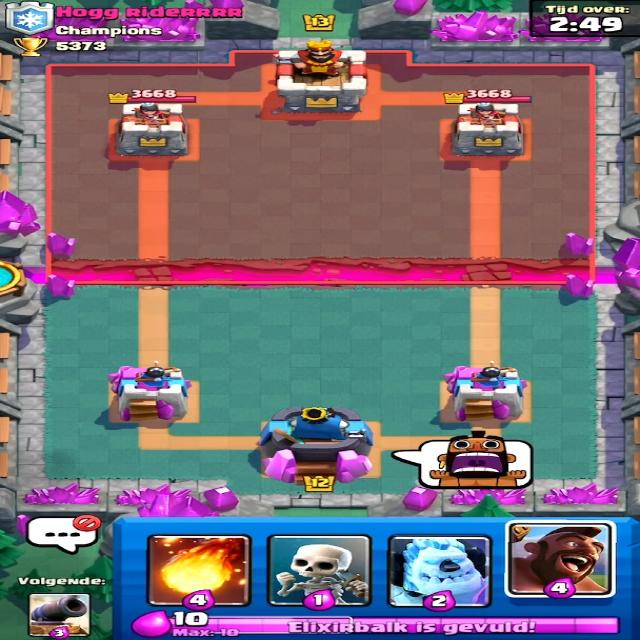Fireball_Card: (151, 536, 245, 603)
Hog_Rider_Card: (506, 520, 616, 598)
Ice_Golem_Card: (384, 537, 484, 604)
Skeleton_Card: (262, 534, 367, 605)
